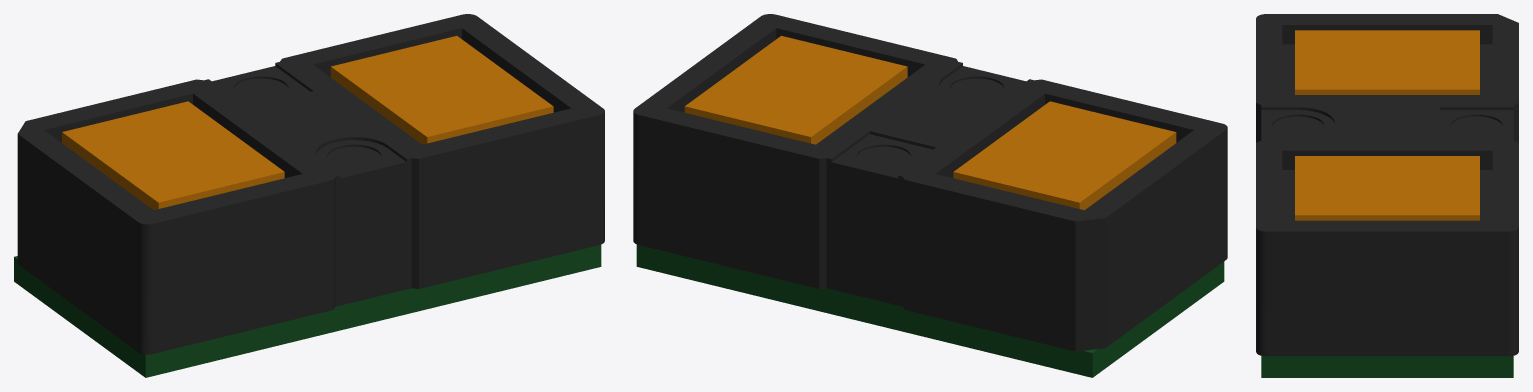
The model's file is sfe-st_vl53l1x.glb.
The picture shows the model from 3 angles, left to right: view 1: azimuth 30°, elevation 25°; view 2: azimuth 150°, elevation 25°; view 3: azimuth 270°, elevation 25°; orthographic projection. The views are drawn at different scales.
Visible parts, largest first — view 1: 0_0_0_0, 0.5_0.16666666666666666_0_0, 0_0.08333333333333333_0_0; view 2: 0_0_0_0, 0.5_0.16666666666666666_0_0, 0_0.08333333333333333_0_0; view 3: 0_0_0_0, 0.5_0.16666666666666666_0_0, 0_0.08333333333333333_0_0.
Part boxes in pixels (left/top/right/bottom): 0_0_0_0: left=17, top=14, right=604, bottom=354; 0.5_0.16666666666666666_0_0: left=62, top=36, right=553, bottom=209; 0_0.08333333333333333_0_0: left=14, top=244, right=601, bottom=377; 0_0_0_0: left=633, top=14, right=1227, bottom=351; 0.5_0.16666666666666666_0_0: left=684, top=35, right=1176, bottom=210; 0_0.08333333333333333_0_0: left=636, top=244, right=1224, bottom=377; 0_0_0_0: left=1256, top=14, right=1518, bottom=356; 0.5_0.16666666666666666_0_0: left=1295, top=30, right=1479, bottom=220; 0_0.08333333333333333_0_0: left=1261, top=356, right=1513, bottom=377.
Size of the model in its own units: 0.49 by 0.157 by 0.25.
